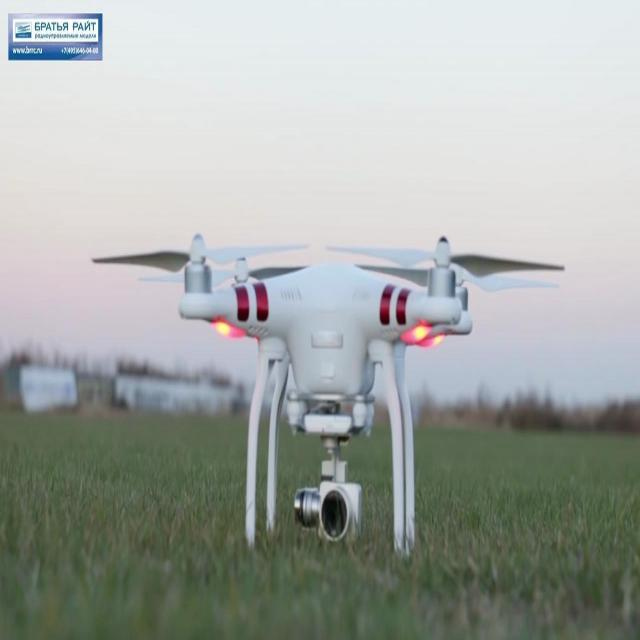drones: (89, 213, 584, 579)
